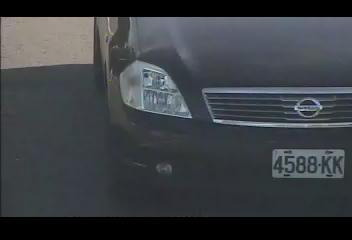plate: (271, 147, 346, 180)
